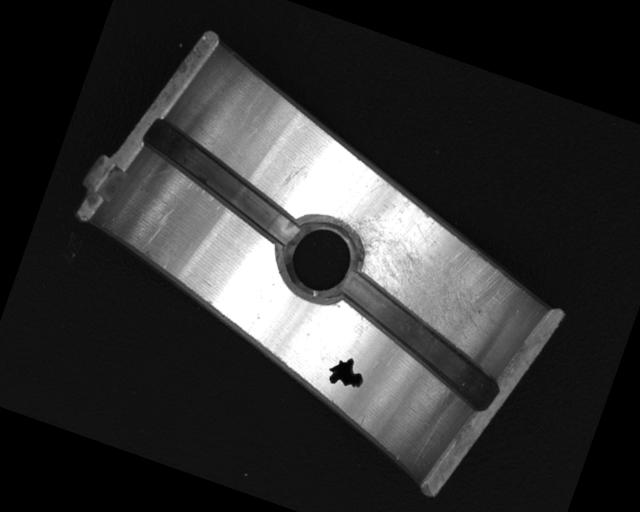blot: (322, 349, 370, 394)
gap: (321, 270, 515, 412), (127, 115, 318, 248)
hole: (267, 205, 372, 316)
nick: (139, 203, 174, 256)
scratch: (313, 162, 537, 357)
